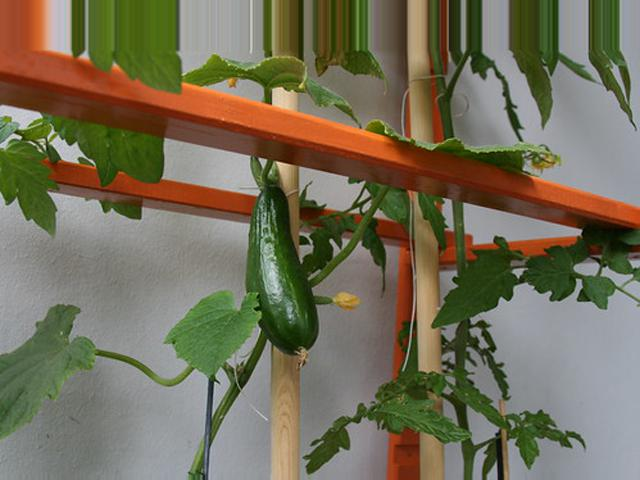cucumber: (246, 186, 318, 367)
